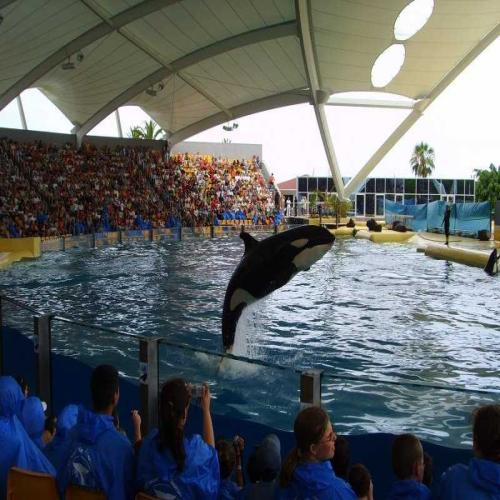killer_whale-endangered: (201, 208, 337, 356), (480, 246, 500, 278)
